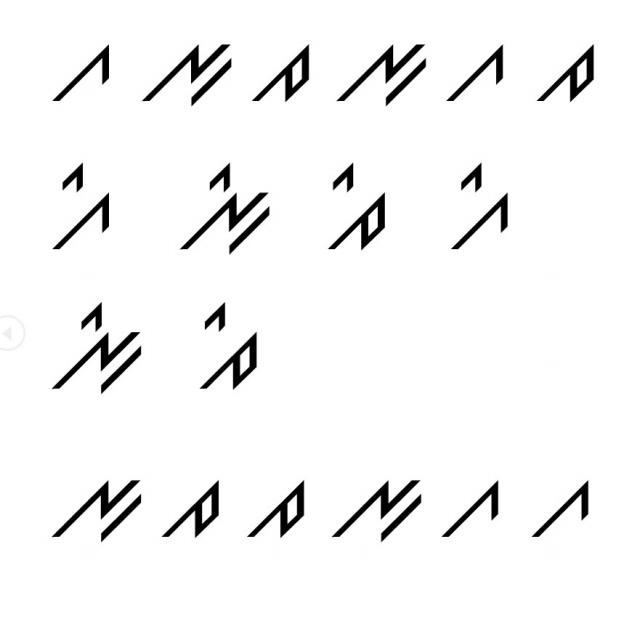ga: (35, 28, 119, 111), (441, 30, 516, 109), (526, 476, 598, 546), (436, 475, 503, 547)
gi: (38, 149, 122, 259), (447, 162, 516, 262)
nga: (328, 460, 425, 559), (137, 29, 236, 121), (44, 464, 144, 552), (332, 29, 430, 114)
ngi: (32, 295, 151, 400), (169, 155, 278, 266)
ta: (154, 469, 227, 548), (534, 35, 608, 112), (250, 30, 317, 115), (242, 470, 313, 548)
ti: (190, 302, 273, 416), (316, 156, 399, 257)
